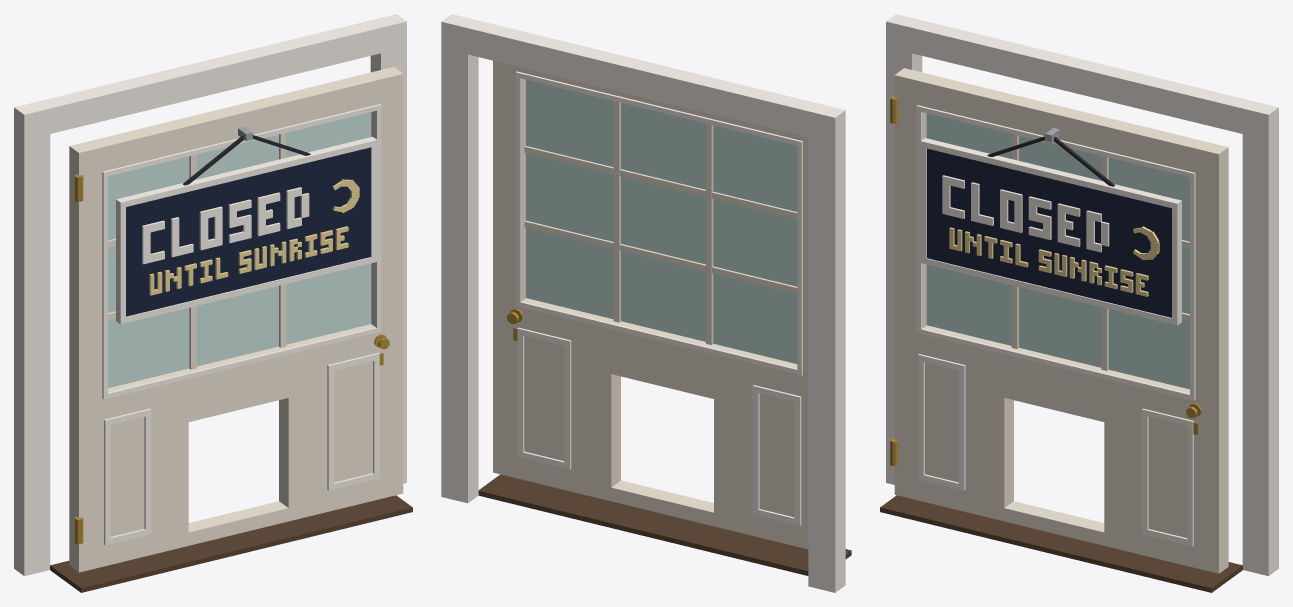
The model's file is CatCafe_Door_PanedGlass_Back.glb.
3 views of the same model, side by side, from view 1: azimuth 30°, elevation 25°; view 2: azimuth 150°, elevation 25°; view 3: azimuth 330°, elevation 25° (orthographic). The views are drawn at different scales.
Visible parts, largest first — view 1: CatCafe_Door_PanedGlass_Back_Leaf, CatCafe_Door_PanedGlass_Back, CatCafe_Door_PanedGlass_Back_Sign, CatCafe_Door_PanedGlass_Back_Leaf_Glass, CatCafe_Door_PanedGlass_Back_Sign_Bulb; view 2: CatCafe_Door_PanedGlass_Back_Leaf, CatCafe_Door_PanedGlass_Back, CatCafe_Door_PanedGlass_Back_Leaf_Glass; view 3: CatCafe_Door_PanedGlass_Back_Leaf, CatCafe_Door_PanedGlass_Back, CatCafe_Door_PanedGlass_Back_Sign, CatCafe_Door_PanedGlass_Back_Leaf_Glass, CatCafe_Door_PanedGlass_Back_Sign_Bulb.
Boxes of the visible parts, x1,y1,x2,y2 form: CatCafe_Door_PanedGlass_Back_Leaf: [69, 67, 403, 572]; CatCafe_Door_PanedGlass_Back: [14, 14, 412, 592]; CatCafe_Door_PanedGlass_Back_Sign: [116, 126, 377, 324]; CatCafe_Door_PanedGlass_Back_Leaf_Glass: [108, 112, 371, 387]; CatCafe_Door_PanedGlass_Back_Sign_Bulb: [142, 179, 359, 295]; CatCafe_Door_PanedGlass_Back_Leaf: [493, 60, 808, 549]; CatCafe_Door_PanedGlass_Back: [441, 14, 851, 592]; CatCafe_Door_PanedGlass_Back_Leaf_Glass: [526, 79, 797, 363]; CatCafe_Door_PanedGlass_Back_Leaf: [890, 68, 1228, 573]; CatCafe_Door_PanedGlass_Back: [880, 14, 1278, 592]; CatCafe_Door_PanedGlass_Back_Sign: [920, 128, 1181, 325]; CatCafe_Door_PanedGlass_Back_Leaf_Glass: [926, 113, 1189, 389]; CatCafe_Door_PanedGlass_Back_Sign_Bulb: [942, 175, 1159, 296].
Bounding box in the file's own units: 6.9 × 7.95 × 1.3.
Materials: 1 (1 with a texture image).
